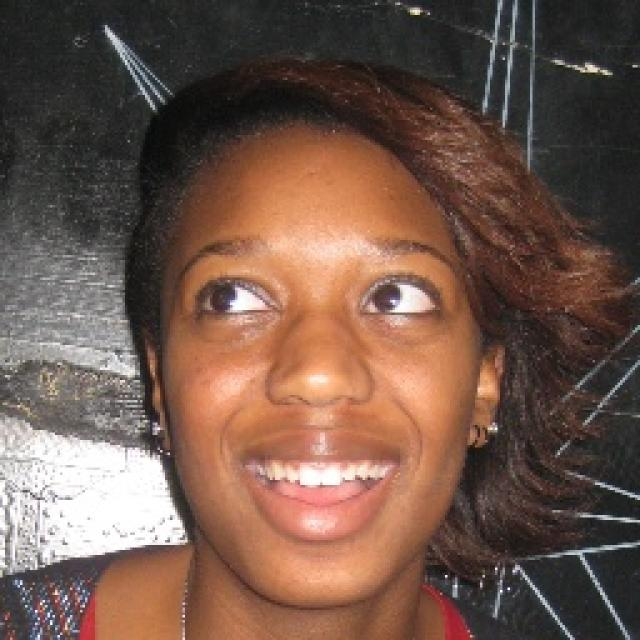earlobe: (464, 411, 498, 452), (152, 409, 175, 456)
eye: (359, 281, 444, 322), (196, 281, 278, 323)
nose: (264, 392, 373, 429)
wholeear: (464, 310, 509, 452), (135, 314, 175, 456)
